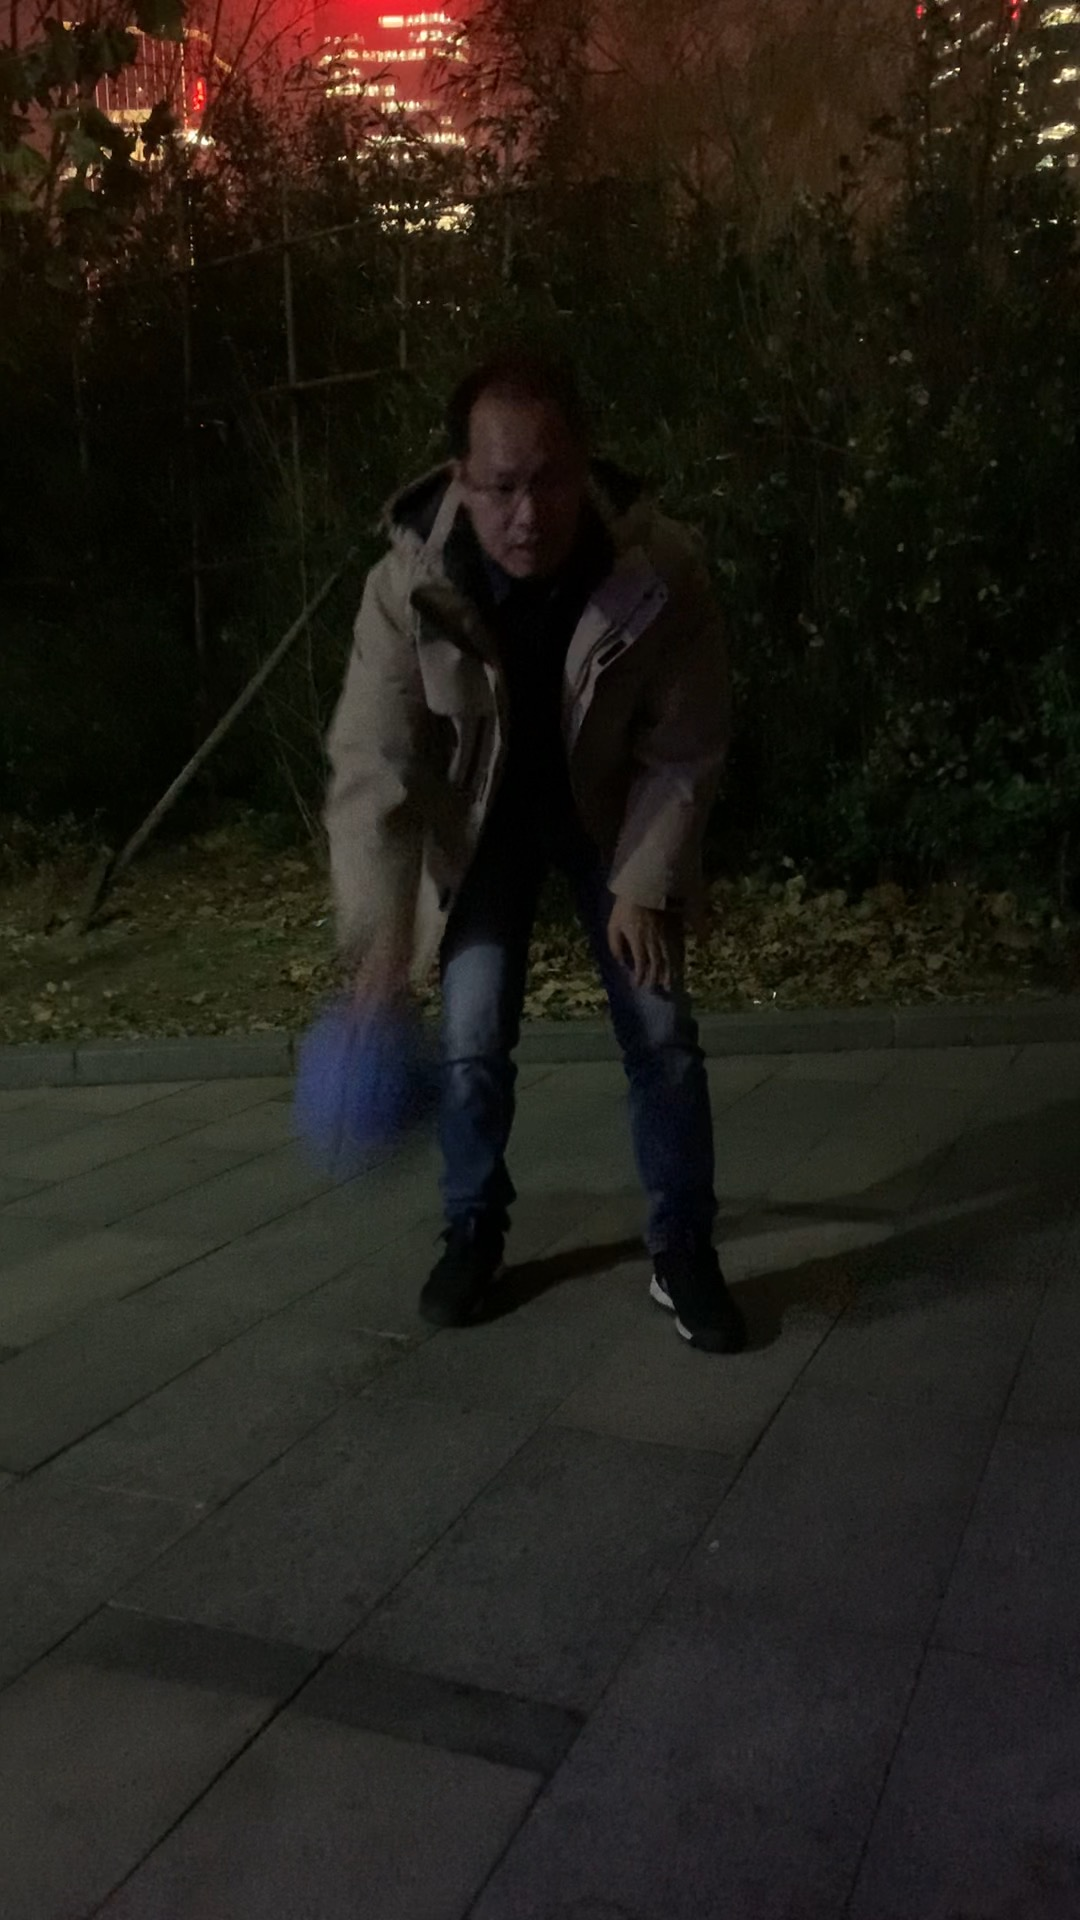ball: (291, 1004, 458, 1153)
